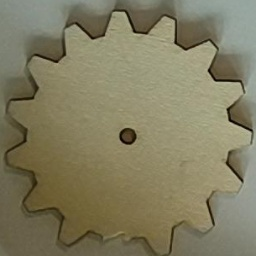Missing: (95, 229, 135, 256)
